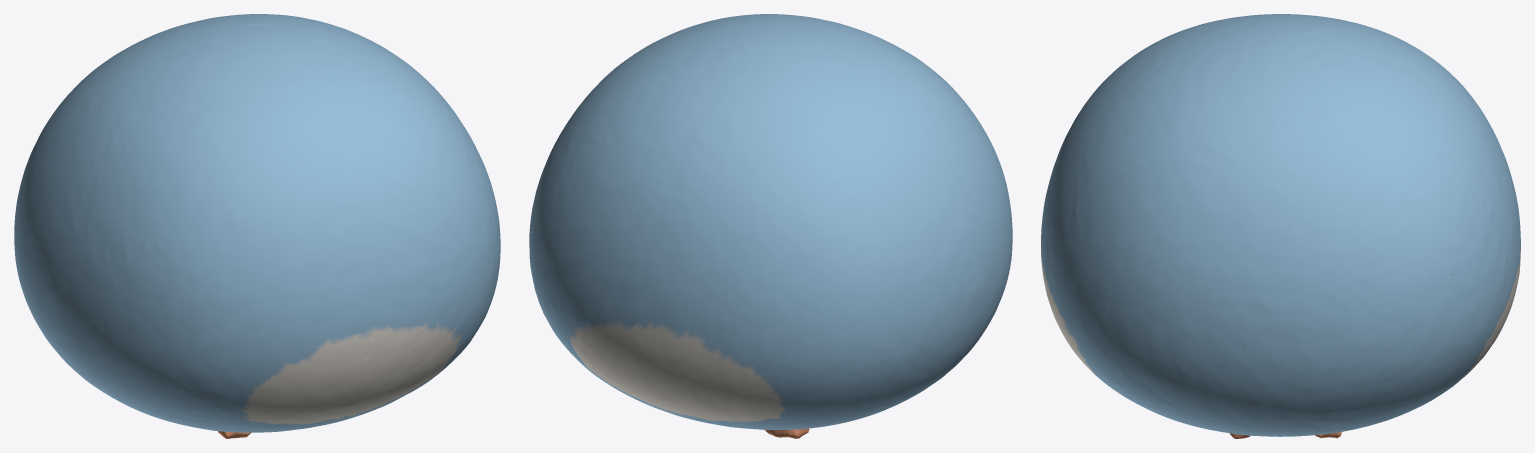
Rendered from bird.glb.
3 views of the same model, side by side, from view 1: azimuth 30°, elevation 25°; view 2: azimuth 150°, elevation 25°; view 3: azimuth 270°, elevation 25° (orthographic). The views are drawn at different scales.
Bounding box in the file's own units: 1.13 × 0.9729 × 1.13.
